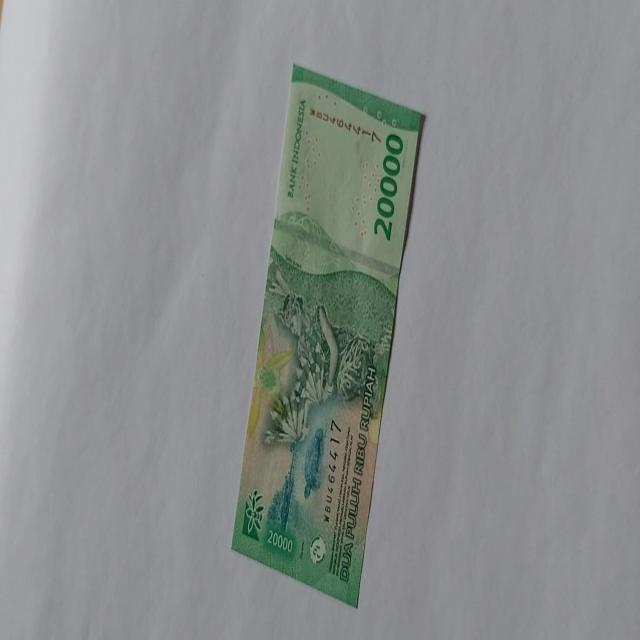dua puluh ribu rupiah: (229, 61, 426, 608)
